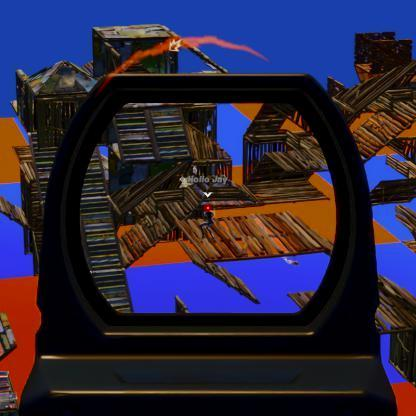person: (205, 206, 217, 244)
